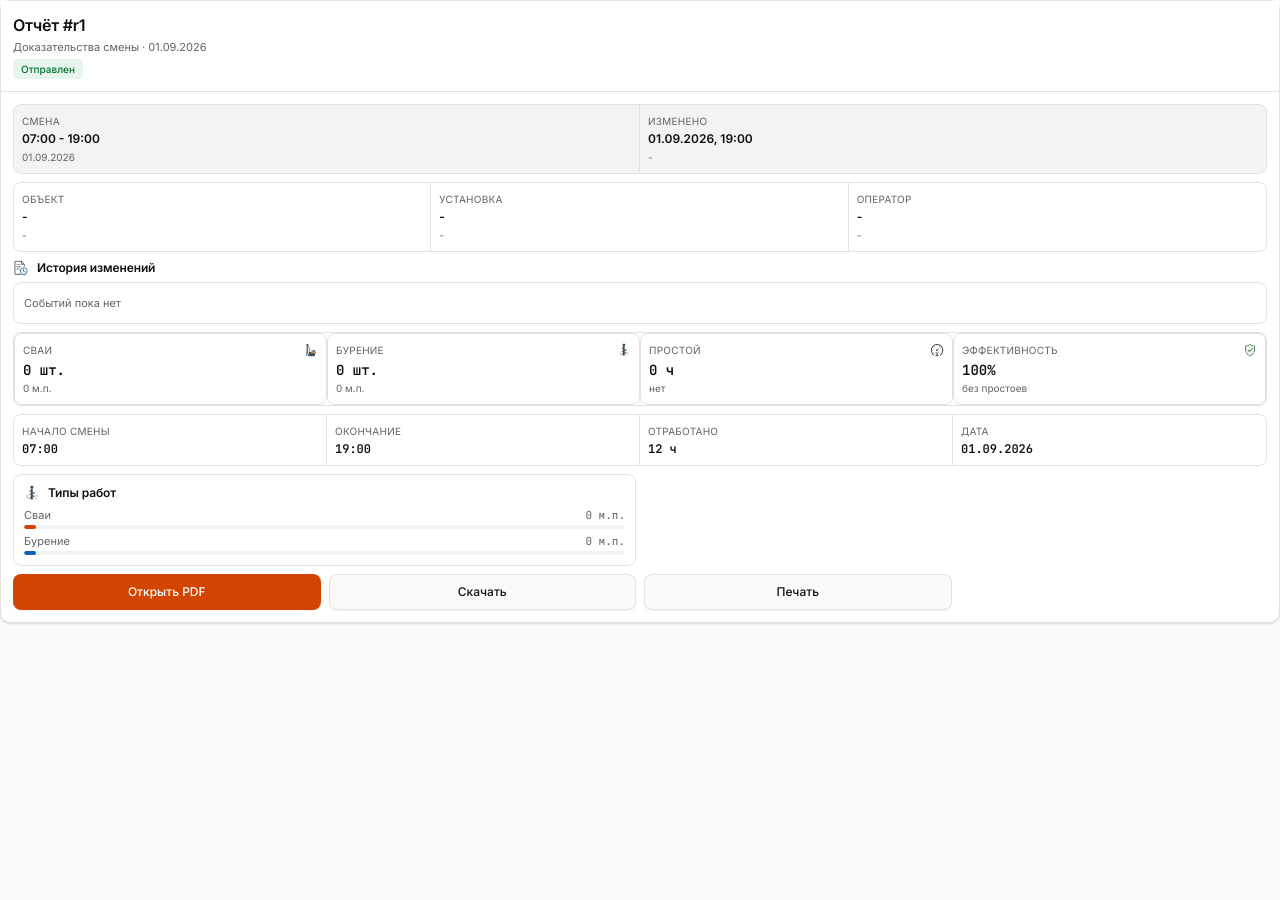
ReportEvidencePreview — защита от повторного «Скачать» (F-R115-4) › во время скачивания кнопка заблокирована и подписана «Скачивание…», второй запрос не уходит
The image size is (1280, 900).
Click the button "Скачать" at x=482, y=592, box [328,574,636,610]
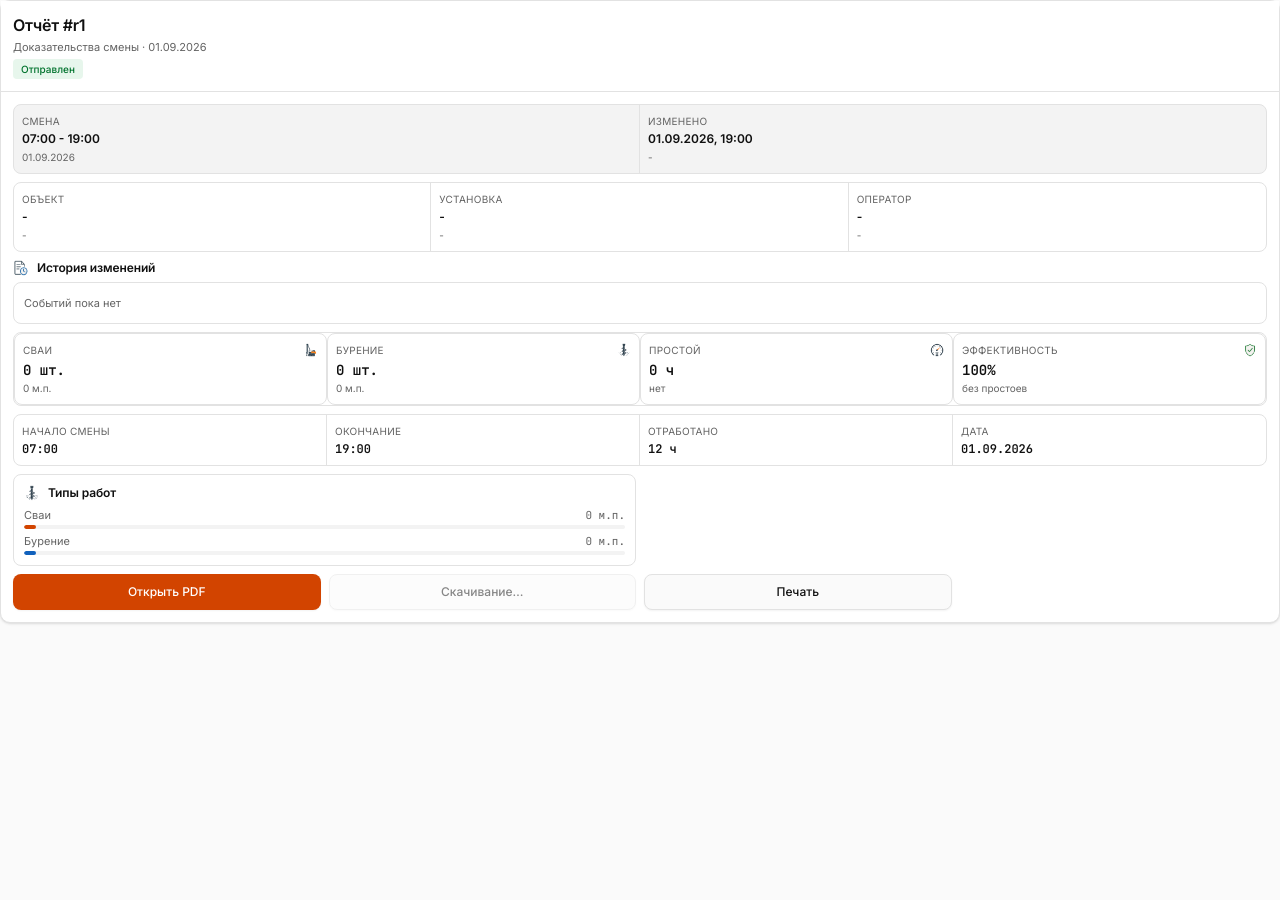
Now the button named "Скачать" is disabled
Now the button named "Скачать" reads "Скачивание…"
# Повторный клик во время выгрузки не должен запускать вторую пересборку PDF.
Click the button named "Скачать" at x=482, y=592, box [328,574,636,610]
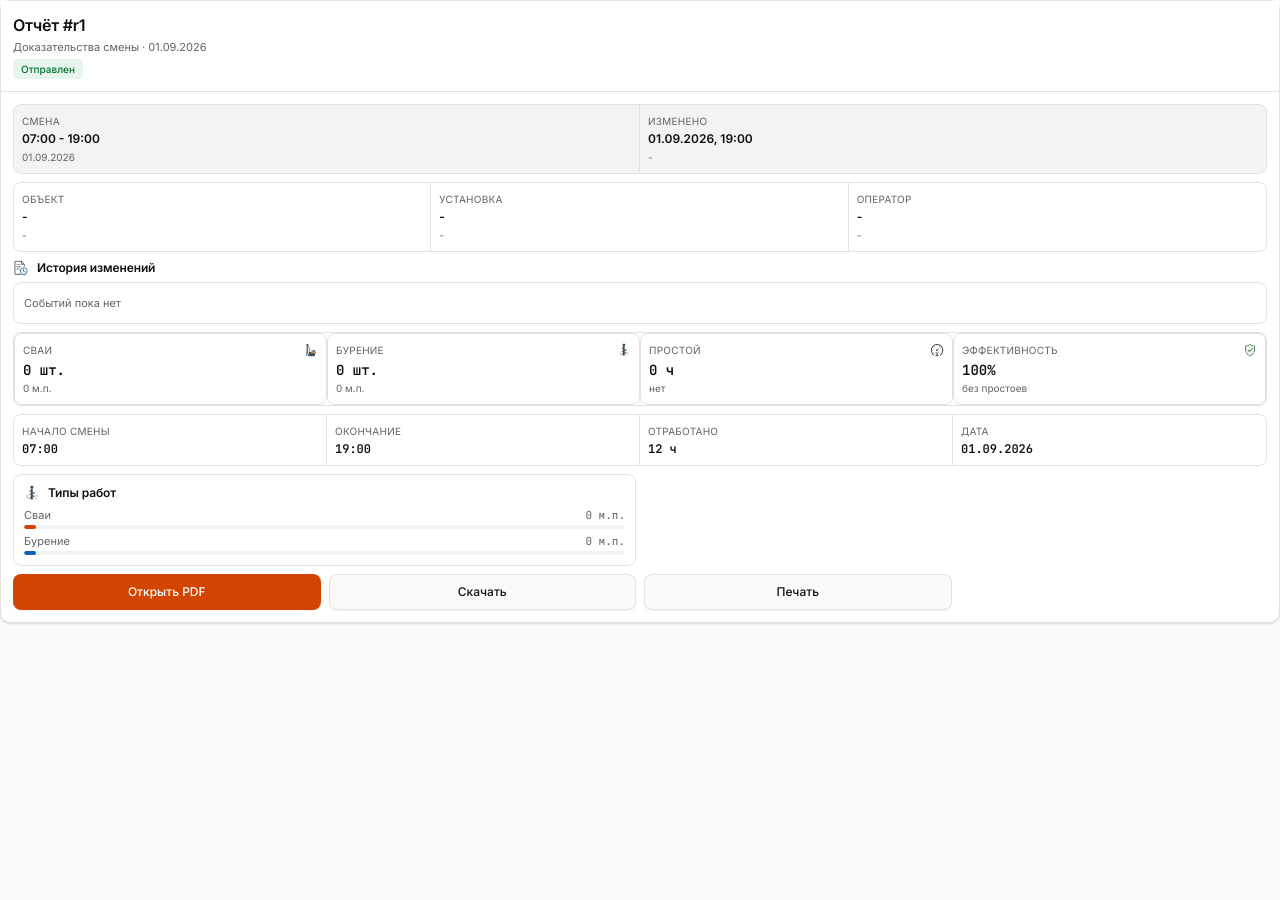
Now the button "Скачать" is enabled, box [328,574,636,610]
Now the button "Скачать" is shown, box [328,574,636,610]
